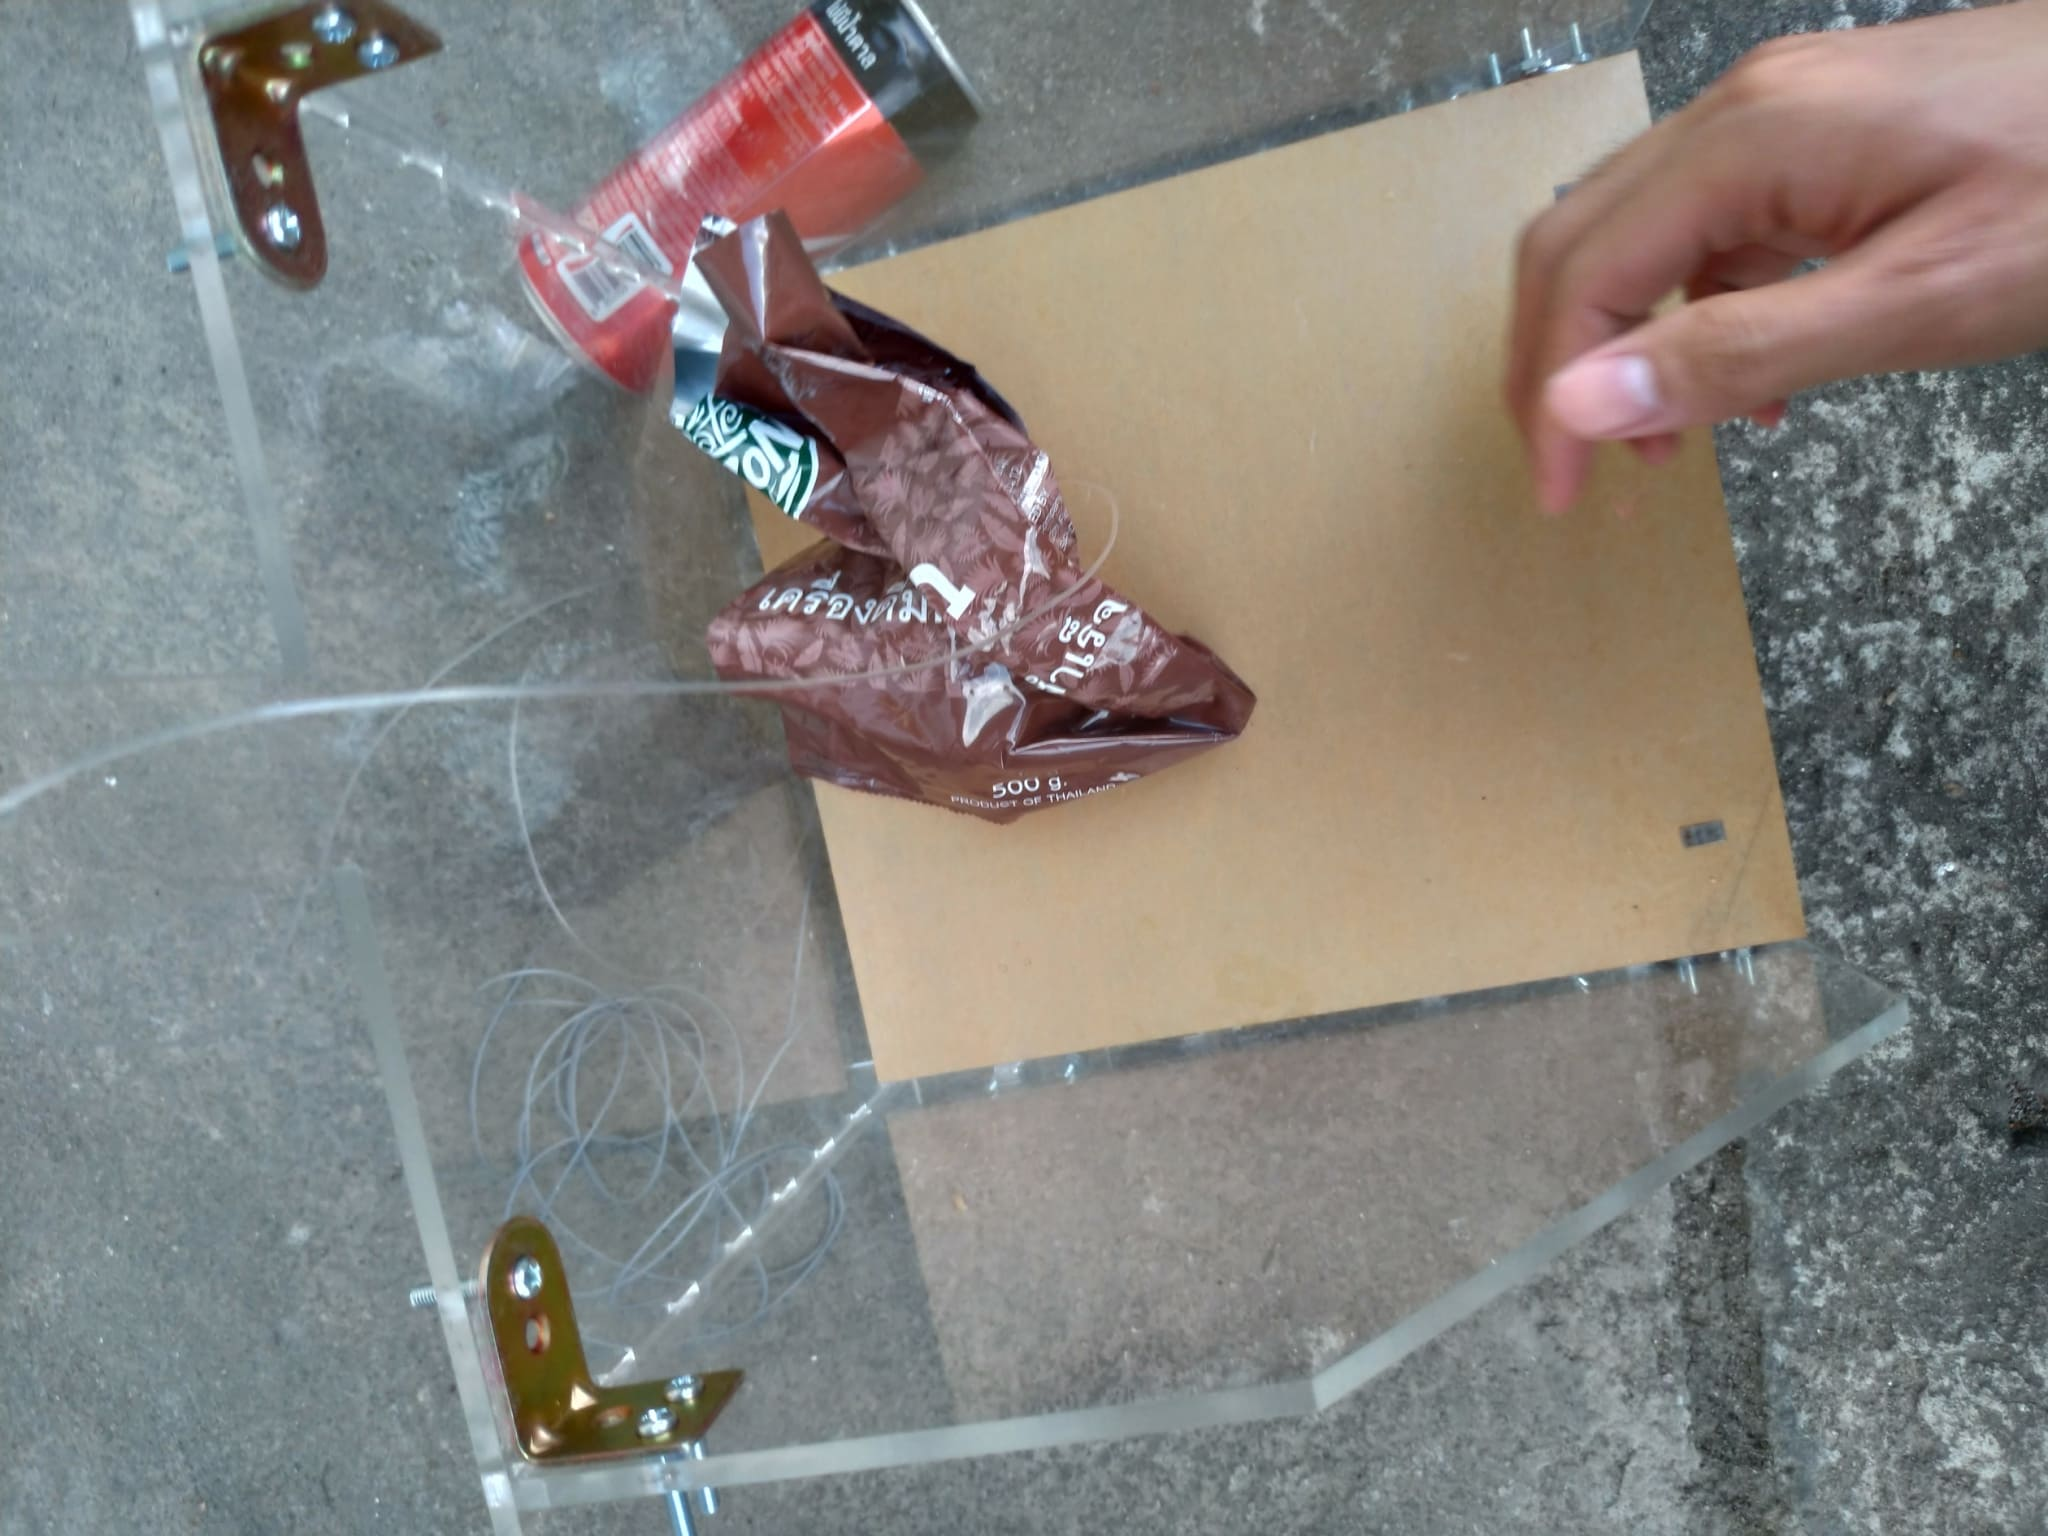AlCan: (502, 3, 985, 395)
Others: (674, 216, 1259, 803)
